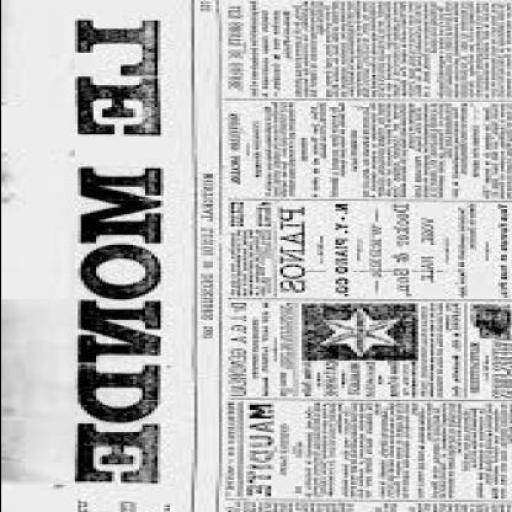paper: (0, 1, 510, 510)
